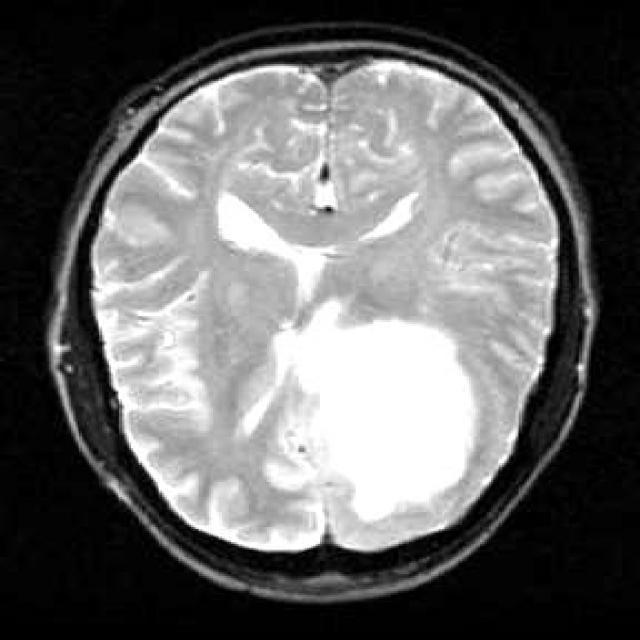tumor: (276, 301, 478, 525)
